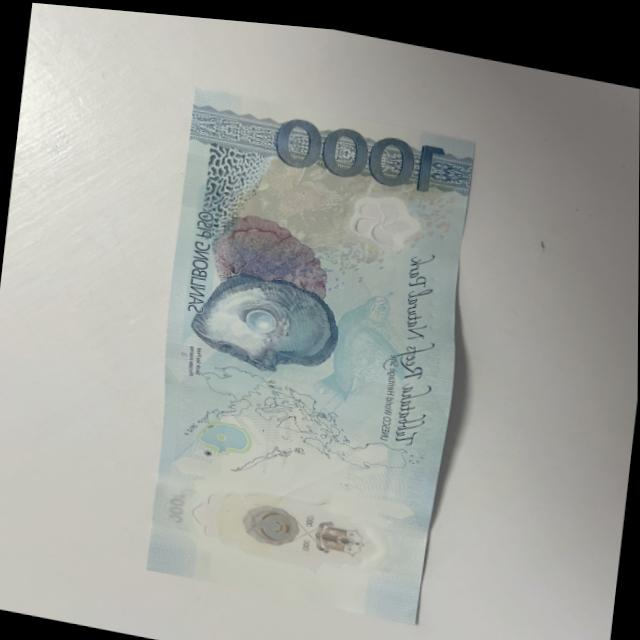clear_window: (162, 467, 405, 582)
sampaguita: (336, 176, 432, 252)
value: (265, 106, 454, 192)
